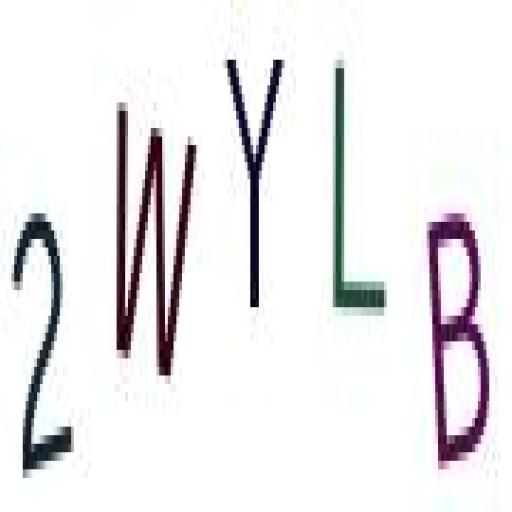2: (8, 208, 82, 482)
B: (422, 196, 494, 488)
L: (326, 47, 392, 333)
W: (112, 86, 200, 395)
Y: (222, 35, 289, 324)
